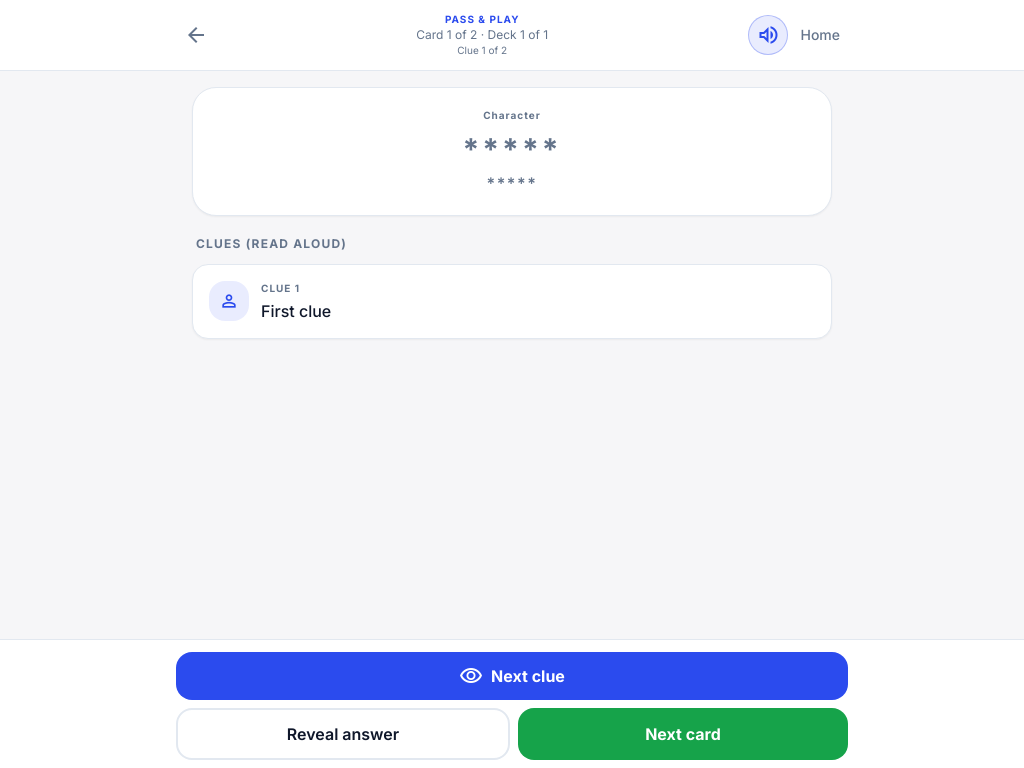
Test: PlayCards › loads a card from the deck and reveals the next clue
This screenshot has width=1024, height=768.
Expected: the text "First clue" is shown, [261,301,331,321]
Expected: the text "person" next to "First clue" is shown, [219,289,239,313]
Click the button "Next clue" at (512, 676), box [176,652,848,700]
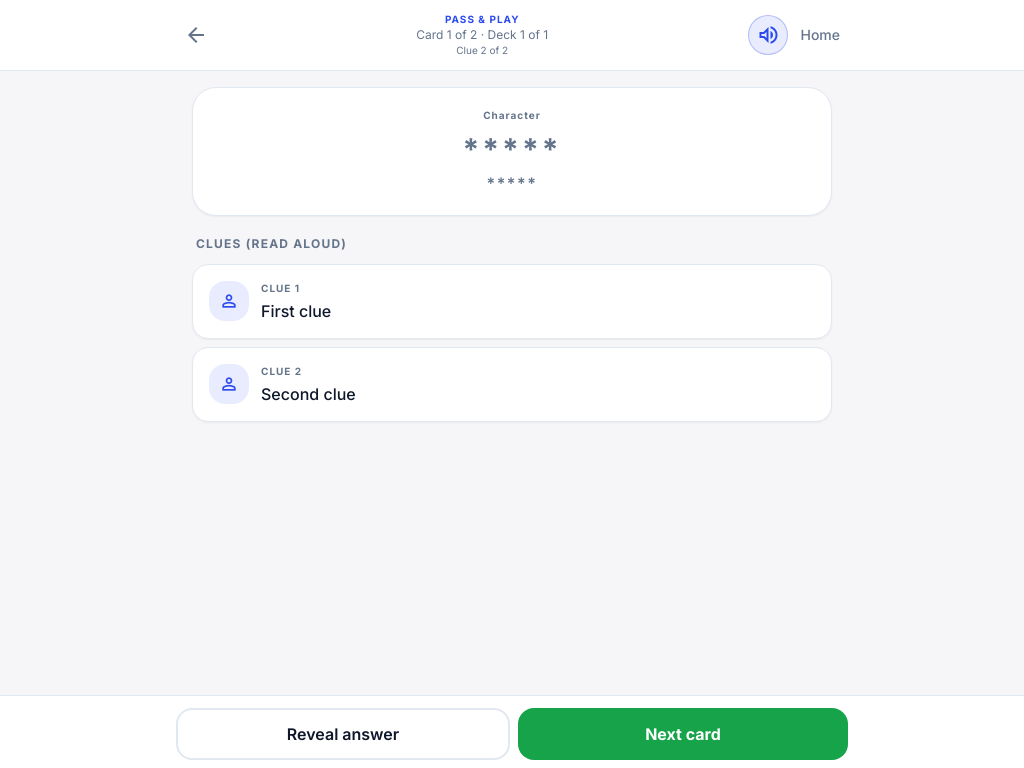
Expected: the text "Second clue" is shown, [261,384,356,404]
Click the button "Reveal answer" at (343, 734), box [176,708,510,760]
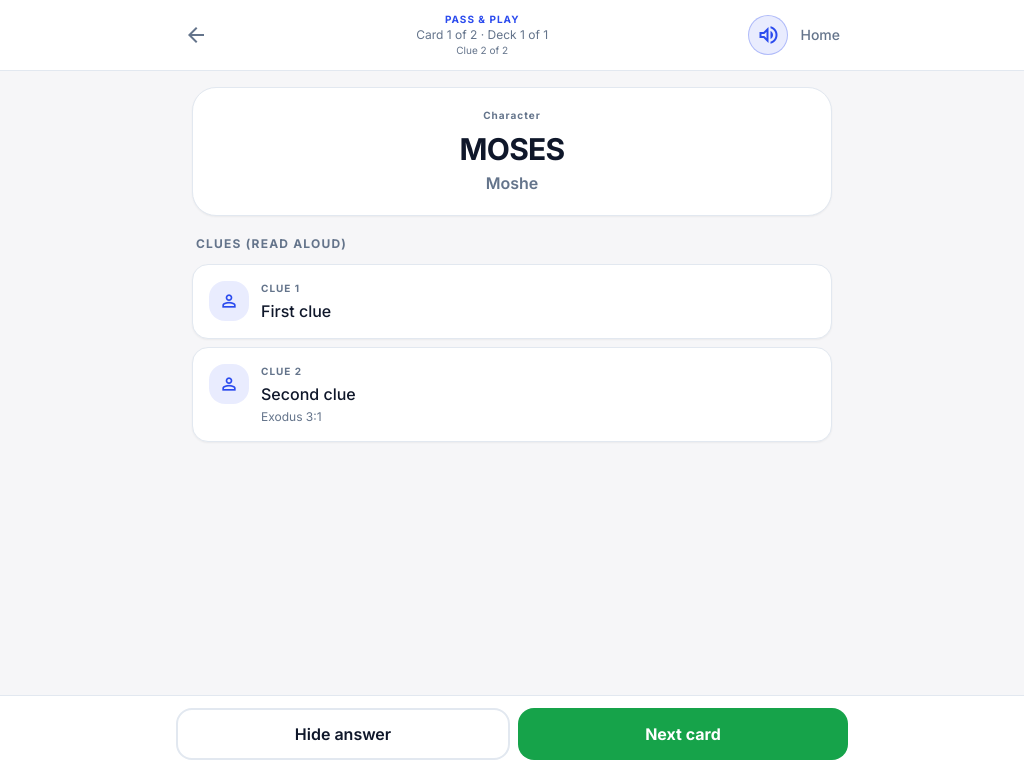
Expected: the text "Exodus 3:1" is shown, [261,409,322,424]
